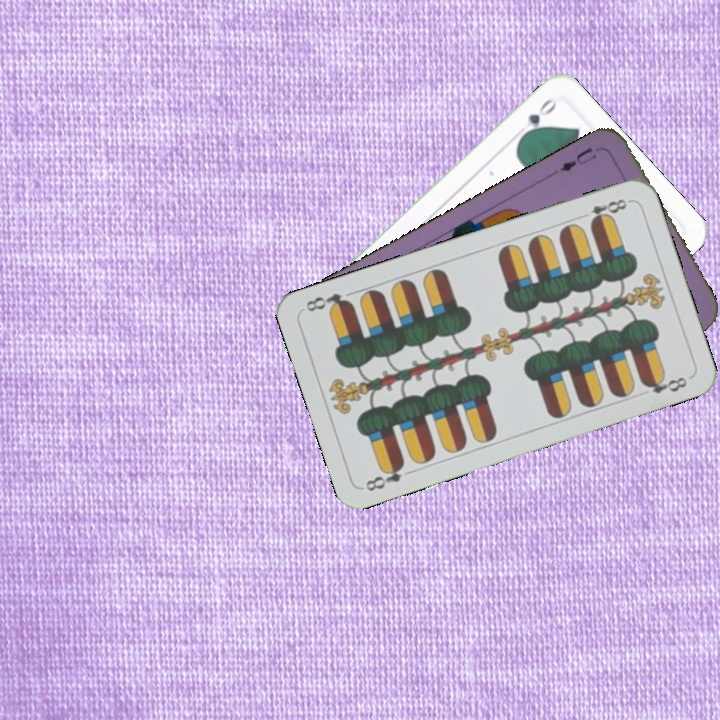E8: (575, 194, 633, 227), (361, 458, 407, 494)
EU: (556, 143, 599, 175)
GO: (516, 94, 560, 142)
